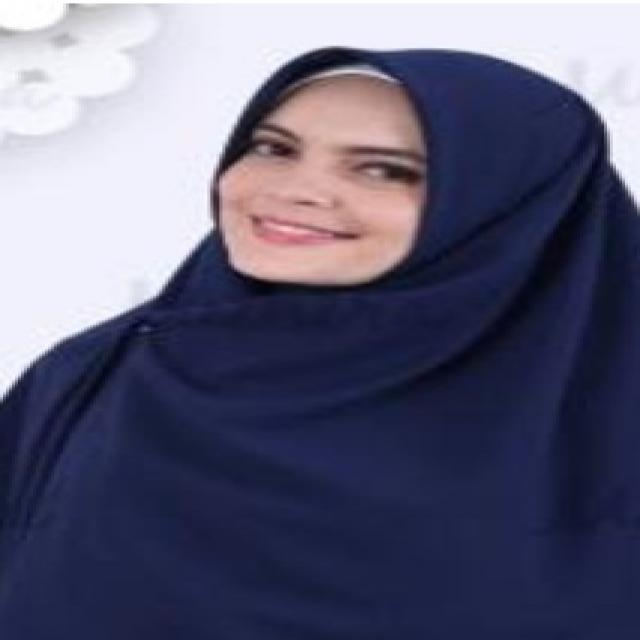head: (192, 24, 577, 303)
